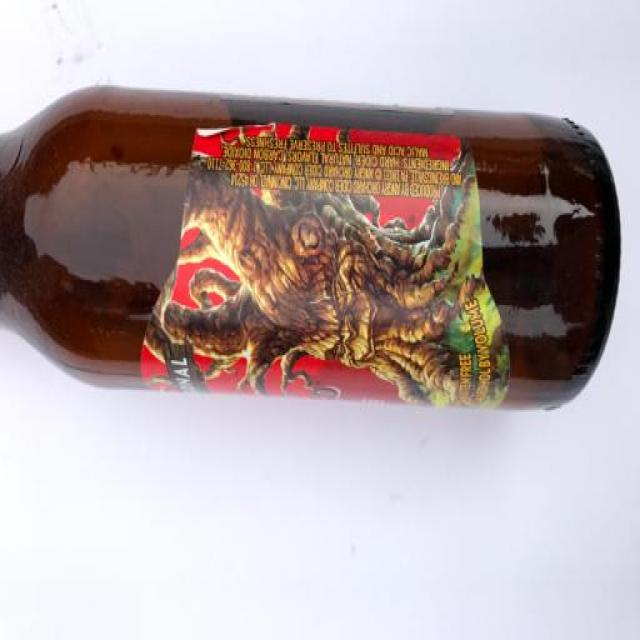Waste: (0, 87, 621, 408)
